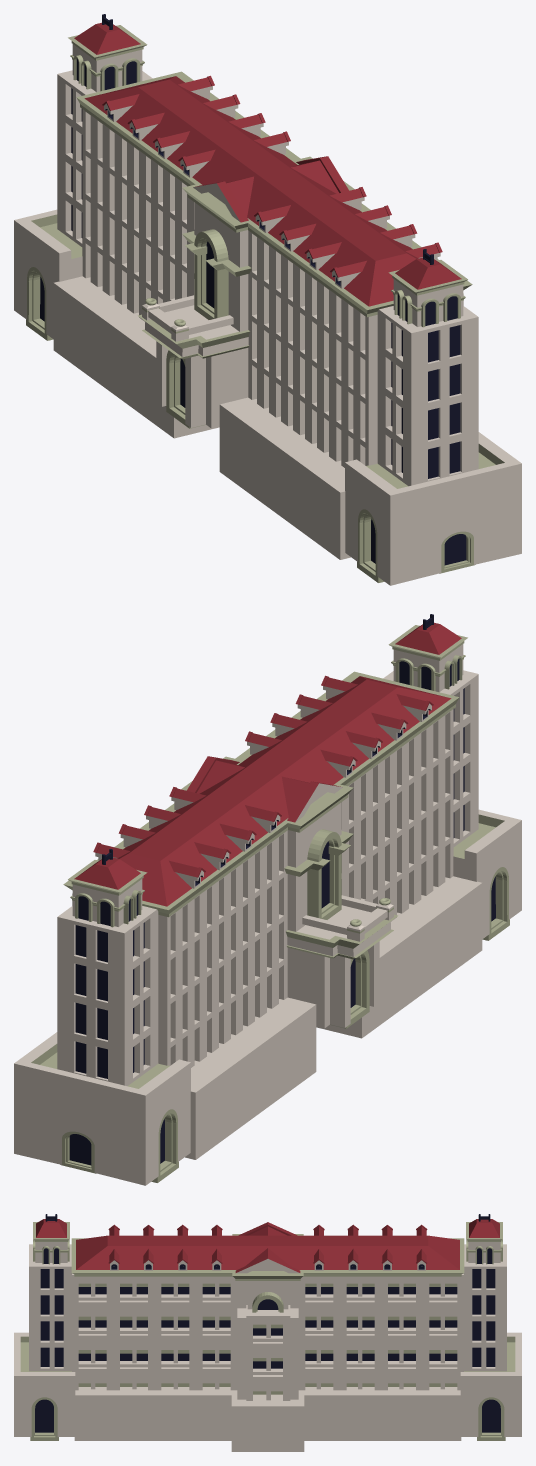
Rendered from QueenSheeba.fbx.
3 views of the same model, one above another, from view 1: azimuth 30°, elevation 25°; view 2: azimuth 150°, elevation 25°; view 3: azimuth 270°, elevation 25° (orthographic). The views are drawn at different scales.
Visible parts, largest first — view 1: Cube.174; view 2: Cube.174; view 3: Cube.174.
Boxes of the visible parts, x1,y1,x2,y2 form: Cube.174: (14,14,521,585); Cube.174: (14,614,521,1185); Cube.174: (14,1214,521,1451).
Bounding box in the file's own units: 133 × 183 × 411.
